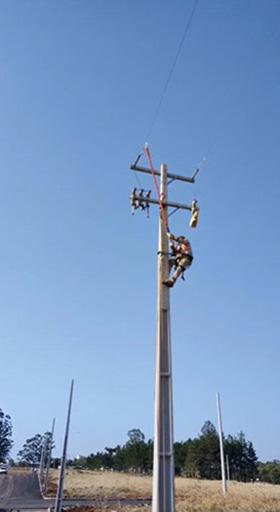Vara_Manobra: (144, 147, 179, 269)
